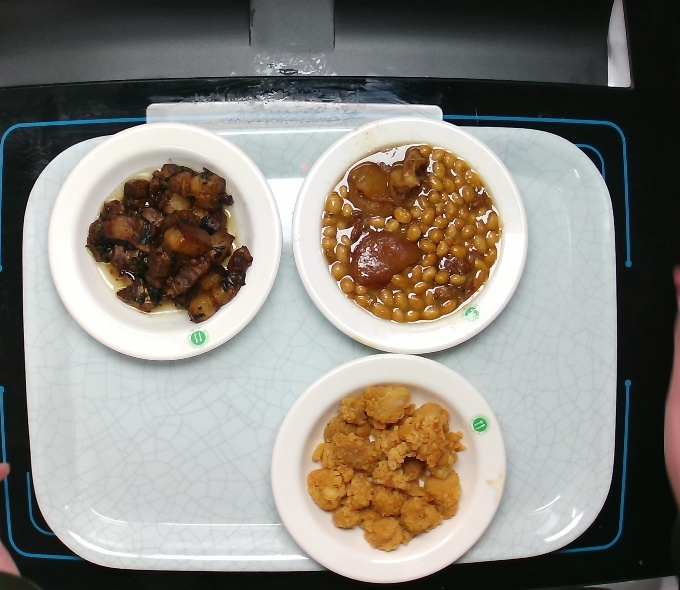wcq-GanCaiRou: (81, 158, 257, 330)
wcq-HuangDouZhuJiao: (312, 136, 509, 337)
wcq-JiMiHua: (304, 378, 474, 559)
